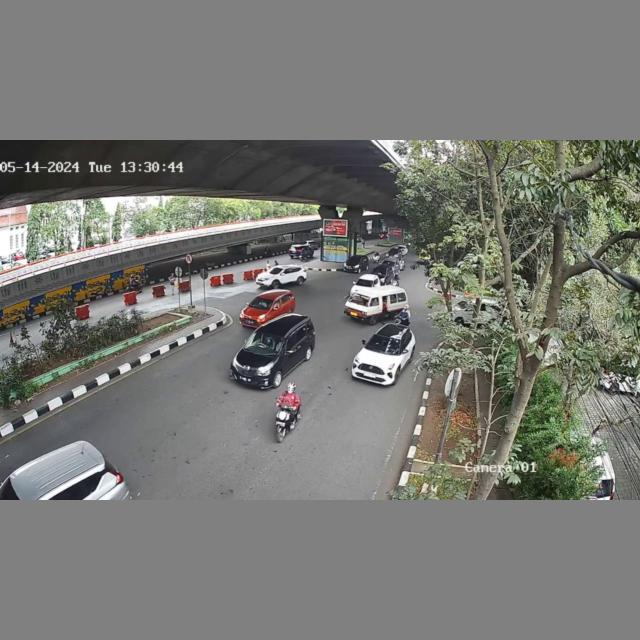windshield: (244, 330, 288, 356), (366, 333, 403, 352), (349, 292, 371, 307), (251, 296, 272, 310)
